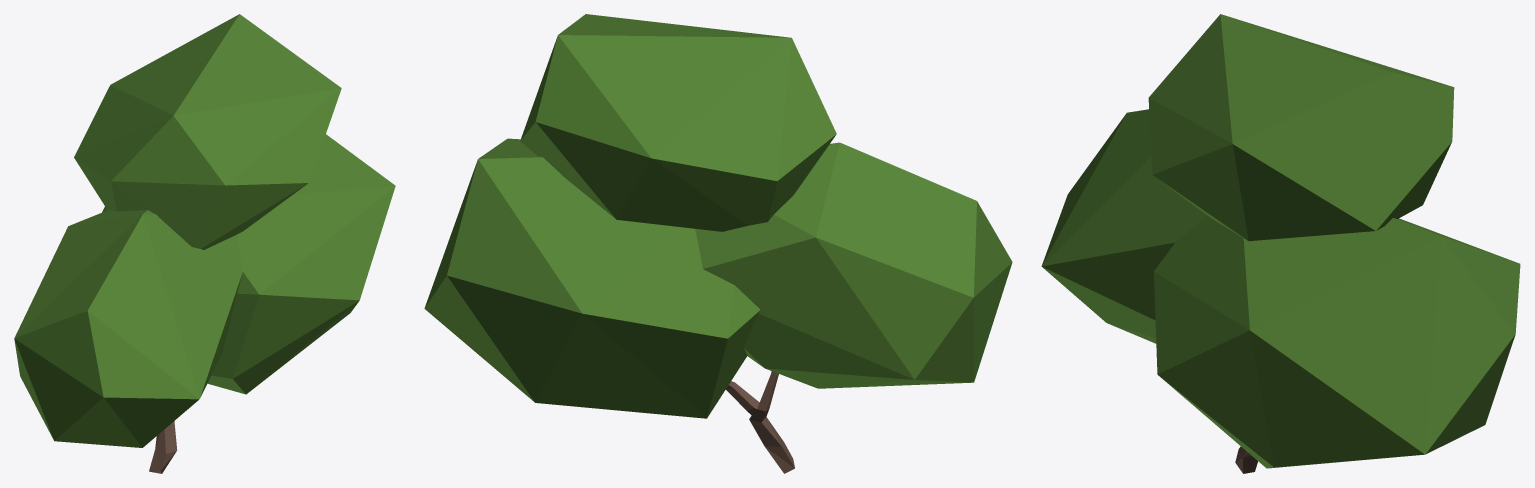
Rendered from Kustik_green1.fbx.
3 renders of one model, left to right at view 1: azimuth 30°, elevation 25°; view 2: azimuth 150°, elevation 25°; view 3: azimuth 270°, elevation 25°, orthographic. The views are drawn at different scales.
Visible parts, largest first — view 1: Kustik_green1; view 2: Kustik_green1; view 3: Kustik_green1.
Boxes of the visible parts, x1,y1,x2,y2 form: Kustik_green1: (14, 14, 395, 473); Kustik_green1: (424, 14, 1012, 473); Kustik_green1: (1041, 14, 1520, 473).
Bounding box in the file's own units: 152 × 142 × 126.
